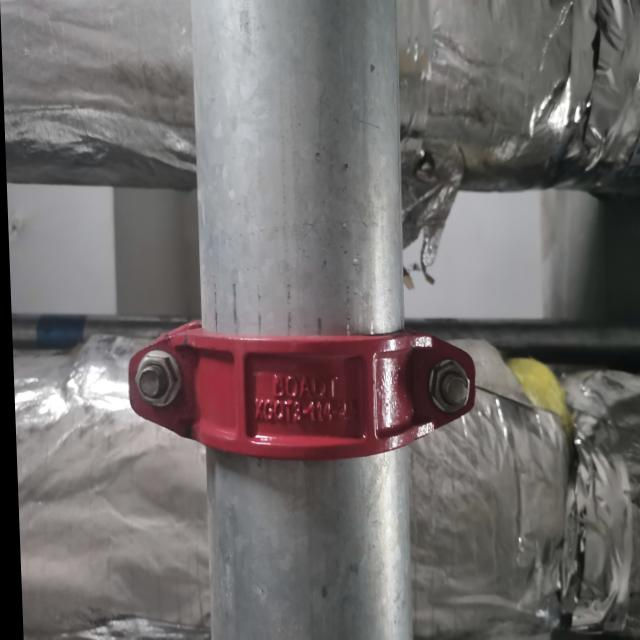Regular bolt: (134, 353, 179, 409), (426, 360, 468, 416)
